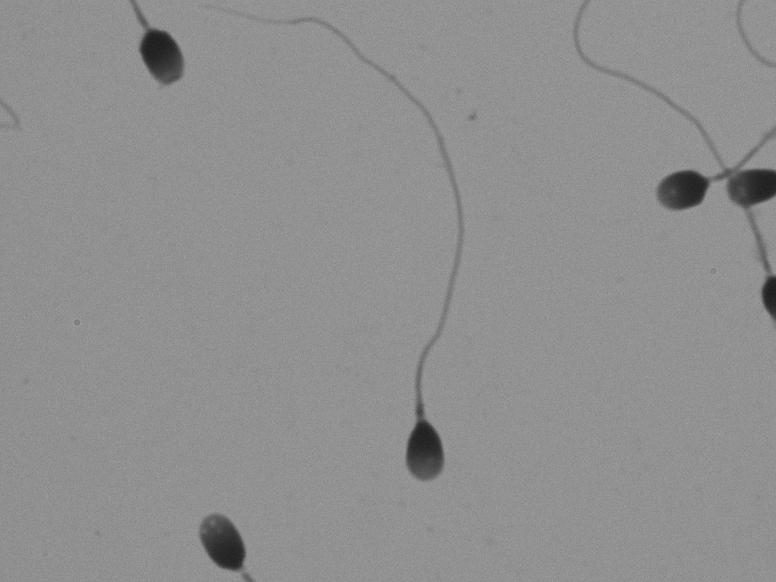Normal: (329, 32, 528, 495)
